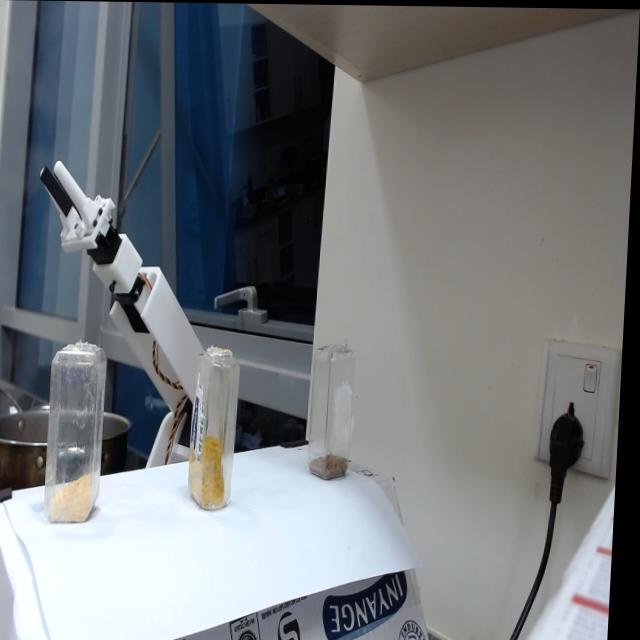curry_powder: (194, 442, 235, 511)
garlic_powder: (56, 475, 101, 522)
maggie_open: (317, 451, 354, 478)
